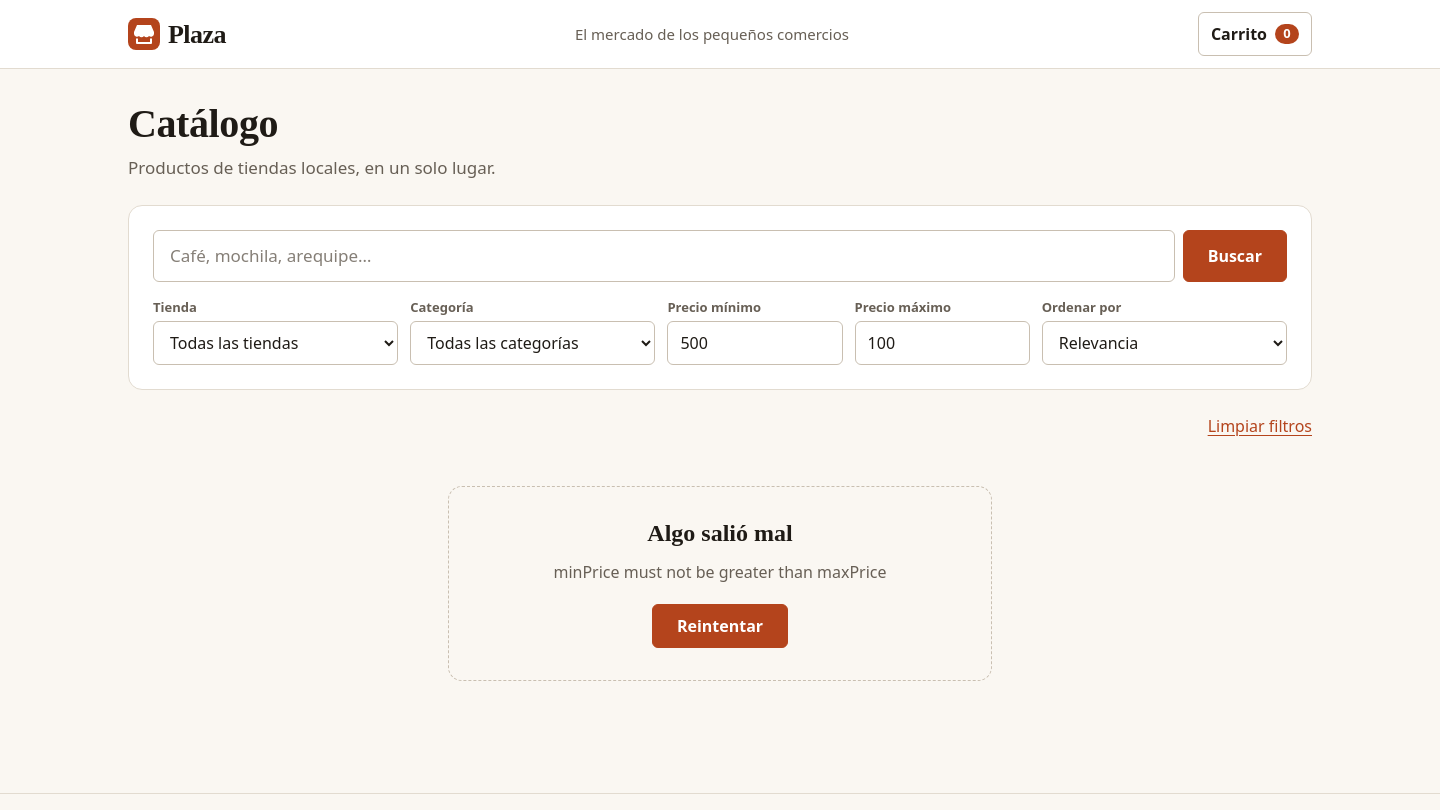
Test: CatalogPage › shows the problem detail when the API fails, and retries on demand
This screenshot has width=1440, height=810.
Expected: the message shows "minPrice must not be greater than maxPrice", [553,561,886,583]
Click the button "Reintentar" at (720, 626), box [652,604,788,648]
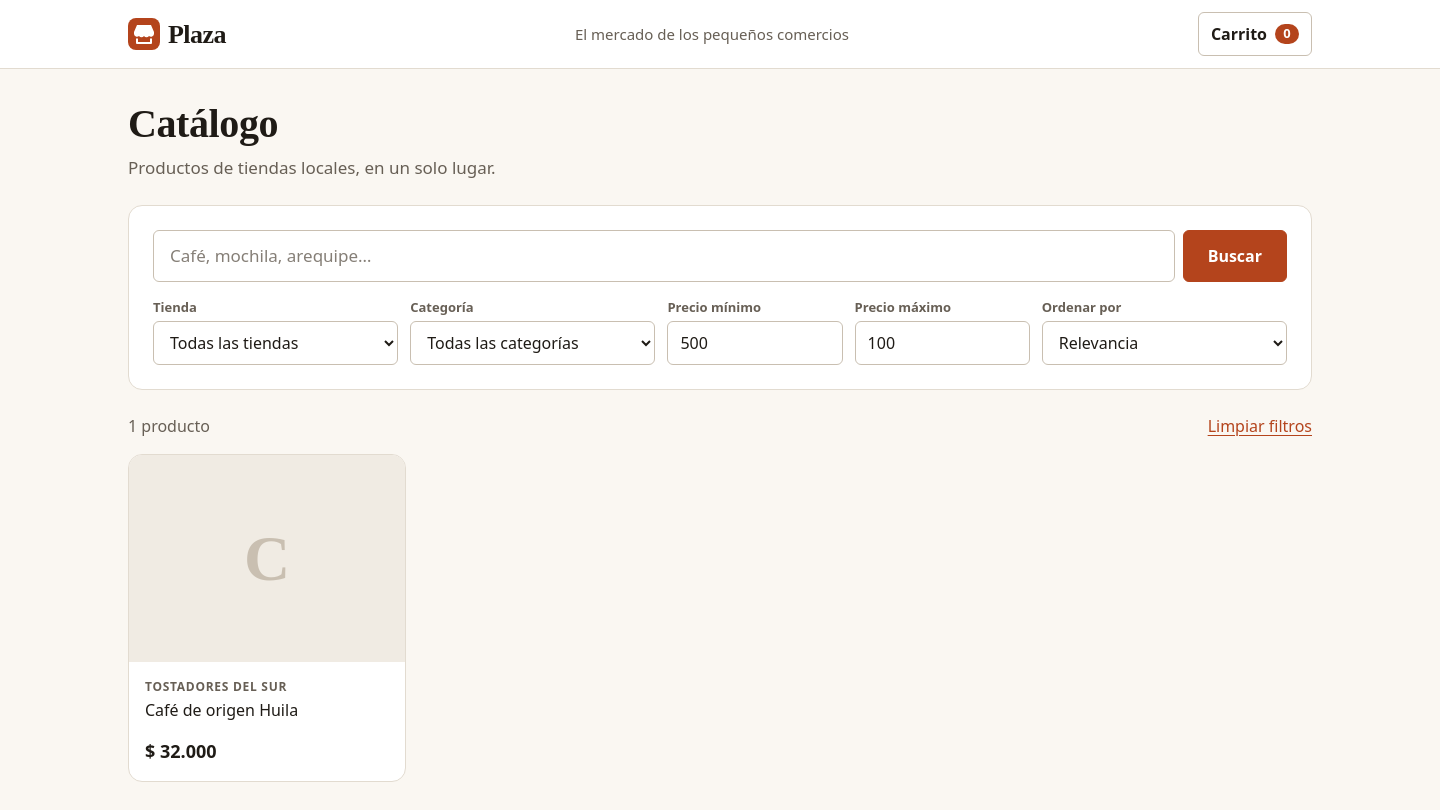
Result: the heading "Café de origen Huila" is shown at [145,699,298,721]
